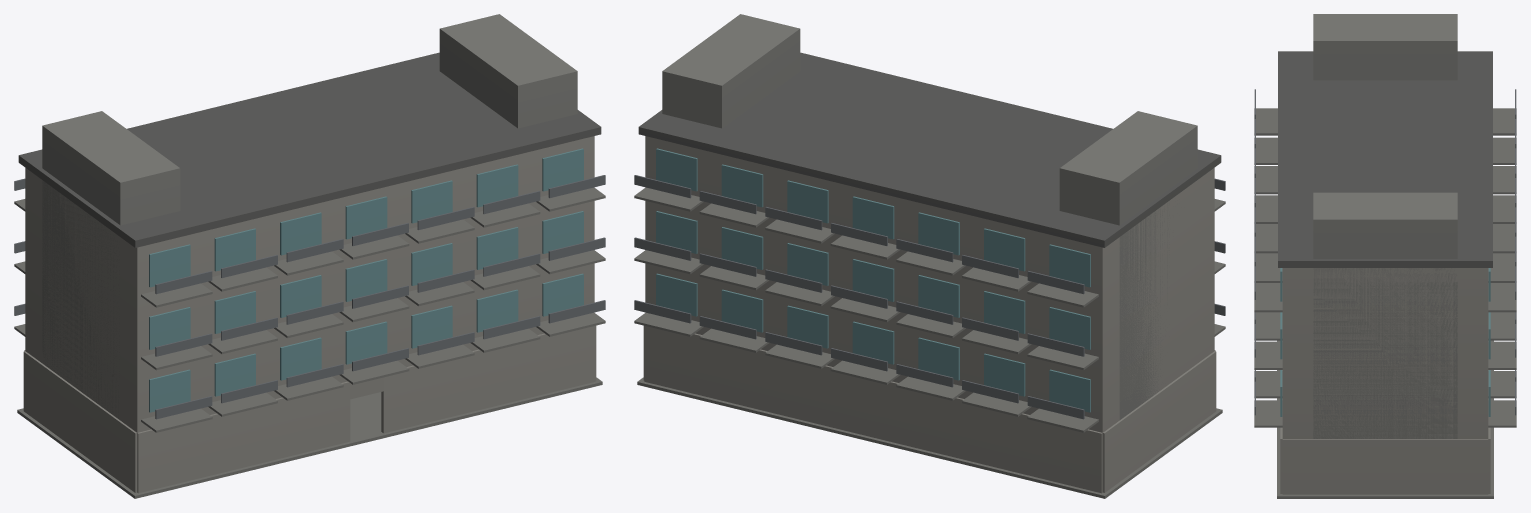
Rendered from town_city_slab.glb.
3 renders of one model, left to right at view 1: azimuth 30°, elevation 25°; view 2: azimuth 150°, elevation 25°; view 3: azimuth 270°, elevation 25°, orthographic. The views are drawn at different scales.
Visible parts, largest first — view 1: prop; view 2: prop; view 3: prop.
Part boxes in pixels (left/top/right/bottom): prop: left=14, top=14, right=605, bottom=498; prop: left=634, top=14, right=1225, bottom=498; prop: left=1254, top=14, right=1516, bottom=498.
Bounding box in the file's own units: 26.6 × 16.32 × 14.
